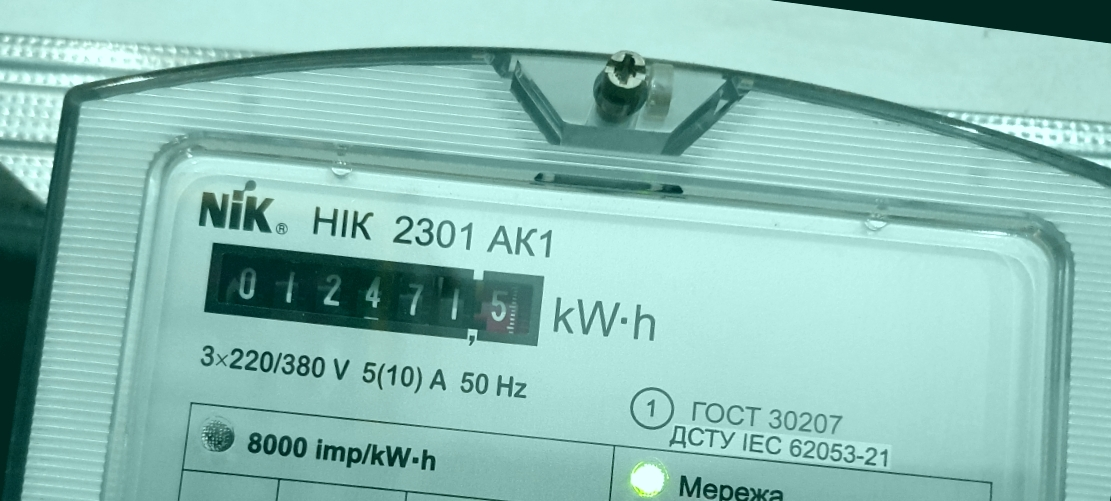0: (233, 262, 261, 301)
1: (282, 267, 298, 304), (447, 284, 462, 321)
2: (320, 269, 345, 308)
4: (362, 271, 385, 310)
5: (486, 284, 512, 324)
7: (400, 277, 426, 318)
screen: (192, 223, 559, 364)
